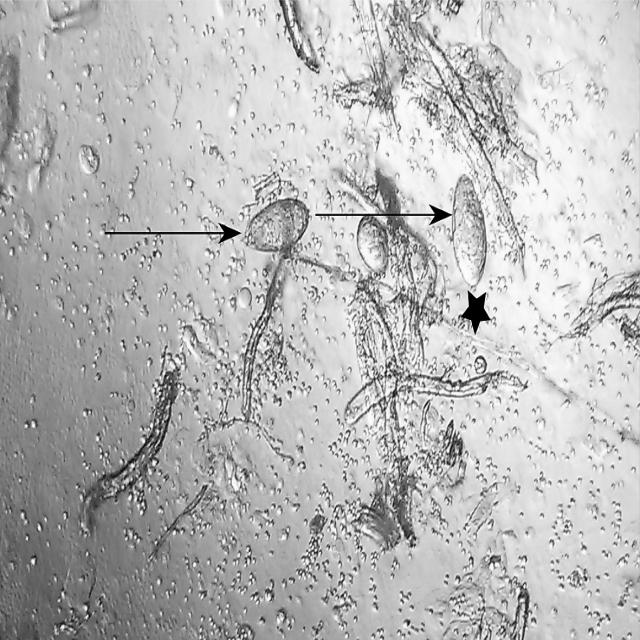Schistosoma: (446, 168, 488, 293), (239, 195, 311, 255)
